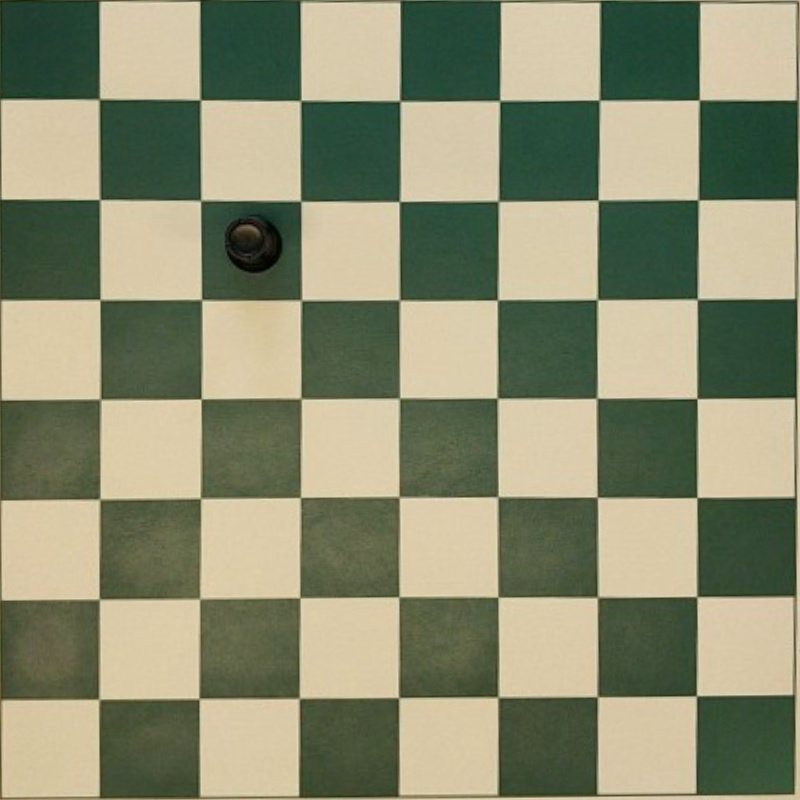black-rook: (226, 217, 282, 272)
